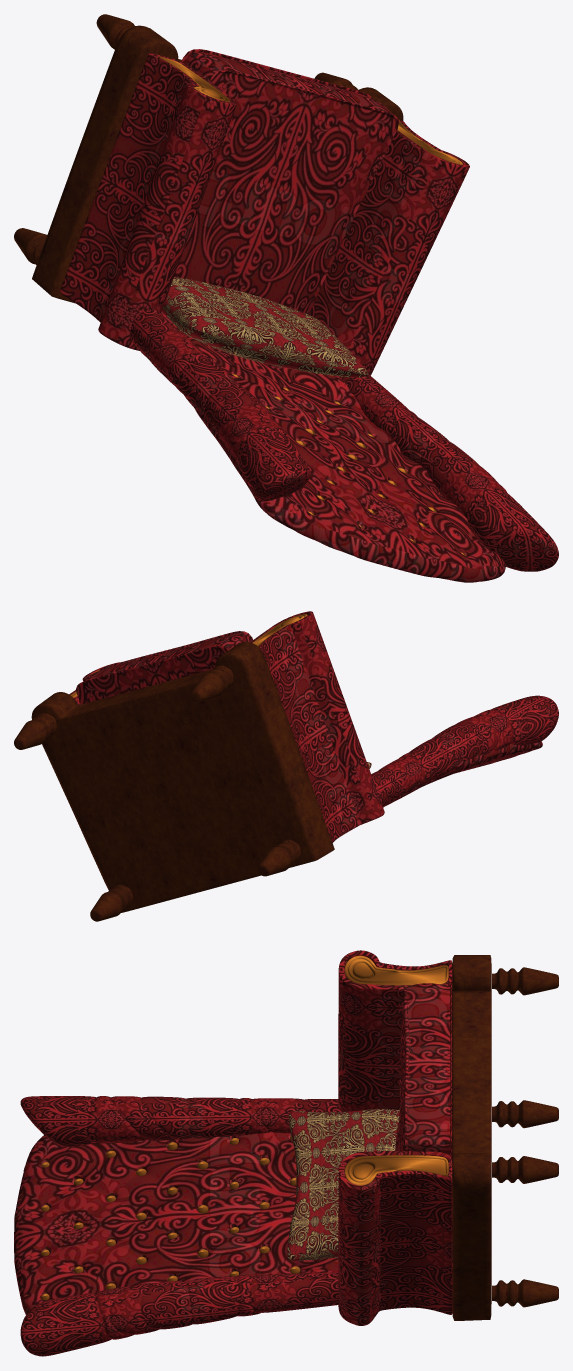
Rendered from chairobj.gltf.
3 renders of one model, top to bottom at view 1: azimuth 30°, elevation 25°; view 2: azimuth 150°, elevation 25°; view 3: azimuth 270°, elevation 25°, orthographic. The views are drawn at different scales.
Parts seen in each view (by area): view 1: node-0; view 2: node-0; view 3: node-0.
Boxes of the visible parts, x1=… form: node-0: x1=14, y1=14, x2=558, y2=582; node-0: x1=14, y1=611, x2=558, y2=921; node-0: x1=14, y1=950, x2=558, y2=1356.
Bounding box in the file's own units: 101 × 96.55 × 140.
Materials: 4 (4 with a texture image).
